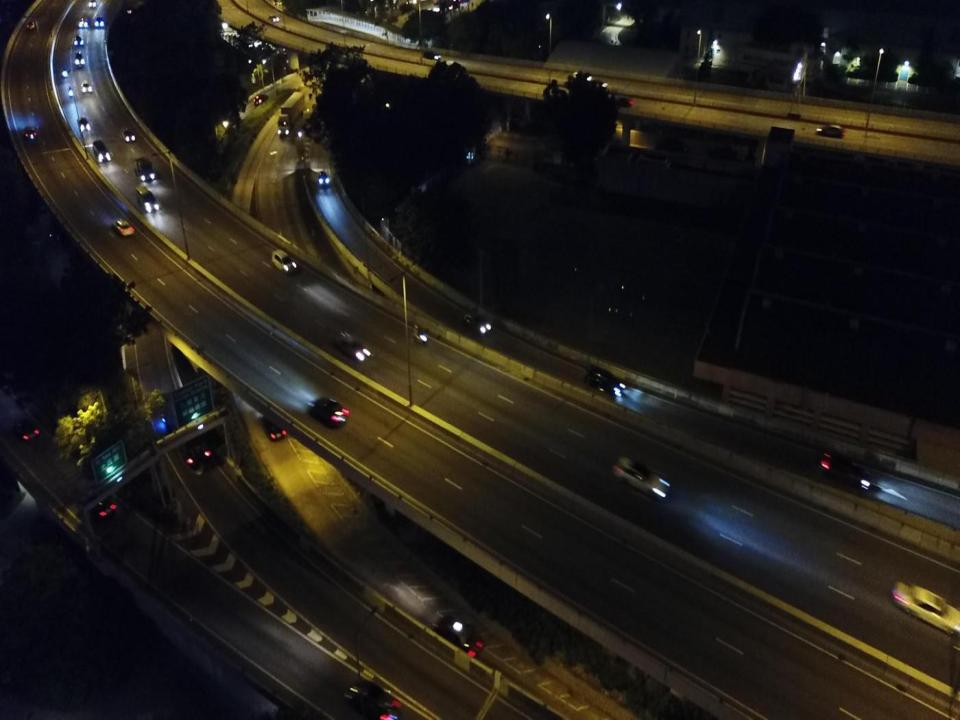car: (893, 583, 960, 637), (614, 456, 669, 499), (346, 681, 399, 719), (435, 615, 483, 656), (821, 454, 871, 491), (584, 366, 626, 394), (310, 397, 348, 426), (334, 333, 369, 361), (85, 496, 117, 524), (264, 408, 287, 441), (10, 418, 38, 445), (464, 312, 491, 334), (272, 250, 296, 274), (817, 123, 845, 136), (114, 219, 134, 236), (568, 70, 590, 82), (612, 98, 634, 107), (122, 128, 135, 142), (23, 127, 37, 140), (77, 118, 90, 131), (253, 95, 269, 105), (80, 80, 92, 93), (422, 51, 441, 59), (590, 80, 607, 88), (94, 16, 105, 28), (74, 34, 84, 46), (78, 18, 89, 28), (28, 19, 36, 29), (269, 15, 280, 21), (88, 0, 96, 7)
truck: (163, 394, 211, 462), (277, 90, 306, 134), (134, 156, 155, 180)
van: (136, 185, 158, 210), (92, 140, 110, 162), (318, 171, 329, 186), (75, 51, 85, 67)
